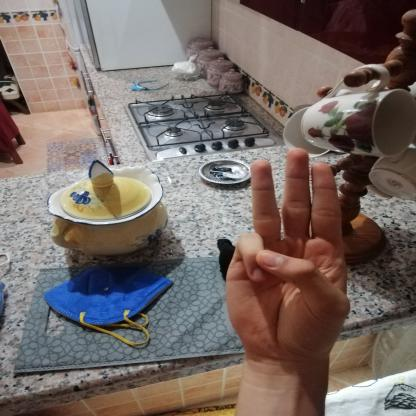THA: (207, 135, 364, 372)
